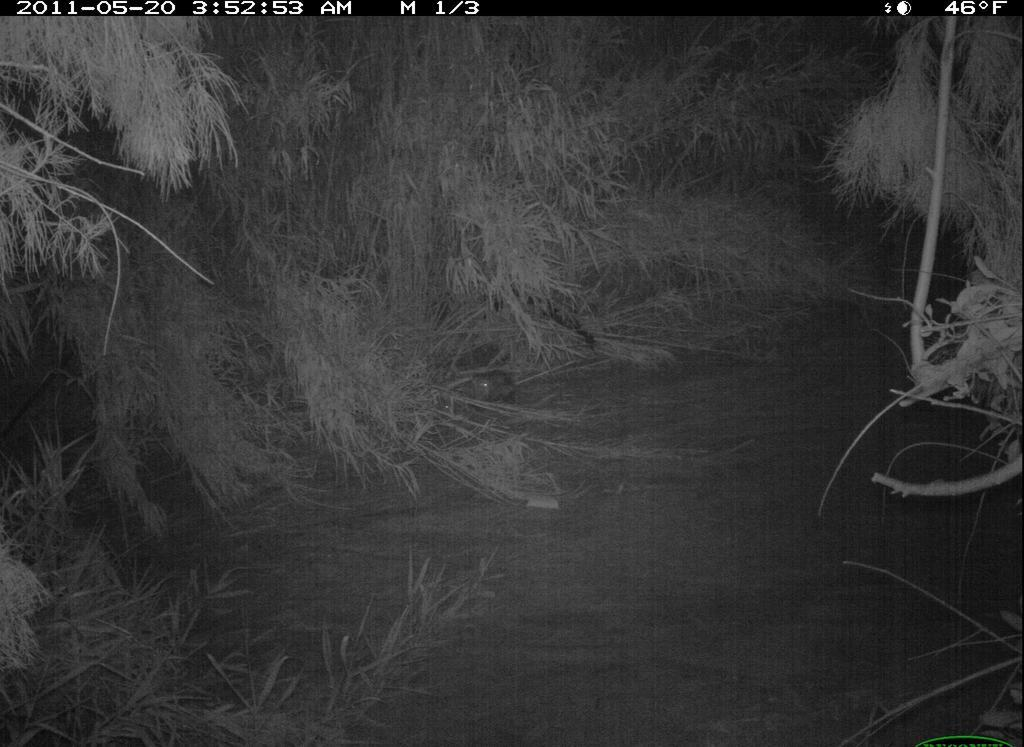opossum: (452, 349, 528, 409)
